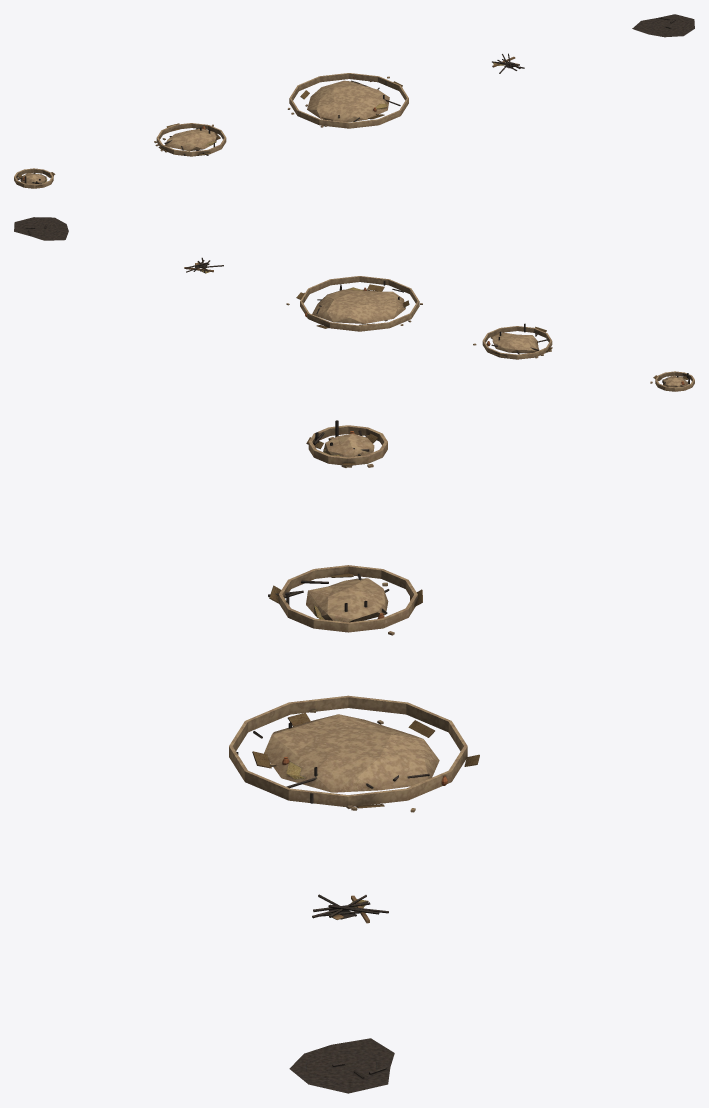
The model's file is ruins-stone.glb.
3 views of the same model, one above another, from view 1: azimuth 30°, elevation 25°; view 2: azimuth 150°, elevation 25°; view 3: azimuth 270°, elevation 25° (orthographic). The views are drawn at different scales.
Visible parts, largest first — view 1: LOD0.002, LOD0.001, LOD0.004, LOD0; view 2: LOD0.002, LOD0.001, LOD0.004, LOD0; view 3: LOD0.002, LOD0.001, LOD0.004, LOD0.
Part boxes in pixels (x1,y1,x2,y2): LOD0.002: (287,73,408,128); LOD0.001: (154,123,226,156); LOD0.004: (632,14,694,37); LOD0: (14,168,55,188); LOD0.002: (286,276,422,331); LOD0.001: (473,323,552,359); LOD0.004: (14,217,68,240); LOD0: (650,371,694,391); LOD0.002: (229,695,479,812); LOD0.001: (268,565,422,635); LOD0.004: (289,1038,394,1093); LOD0: (306,420,387,467).
Size of what is drawn, in the model's own units: 12.9 by 0.165 by 2.07.
Materials: 1 (1 with a texture image).
